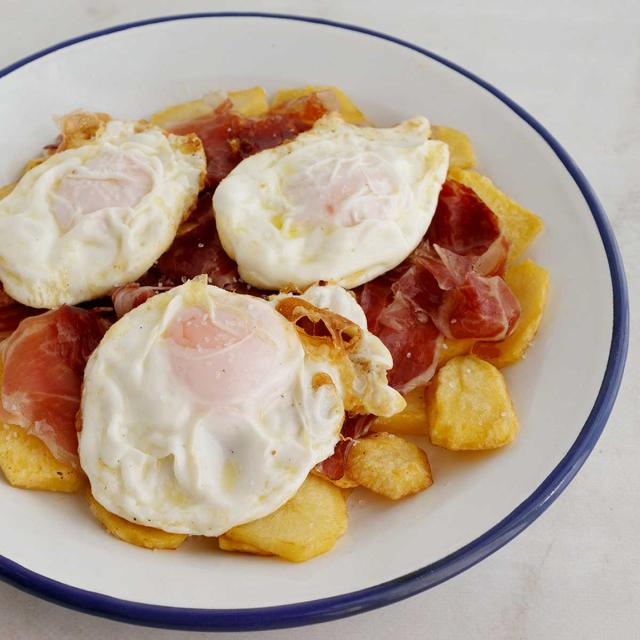huevos: (73, 277, 347, 536), (210, 112, 460, 291)
